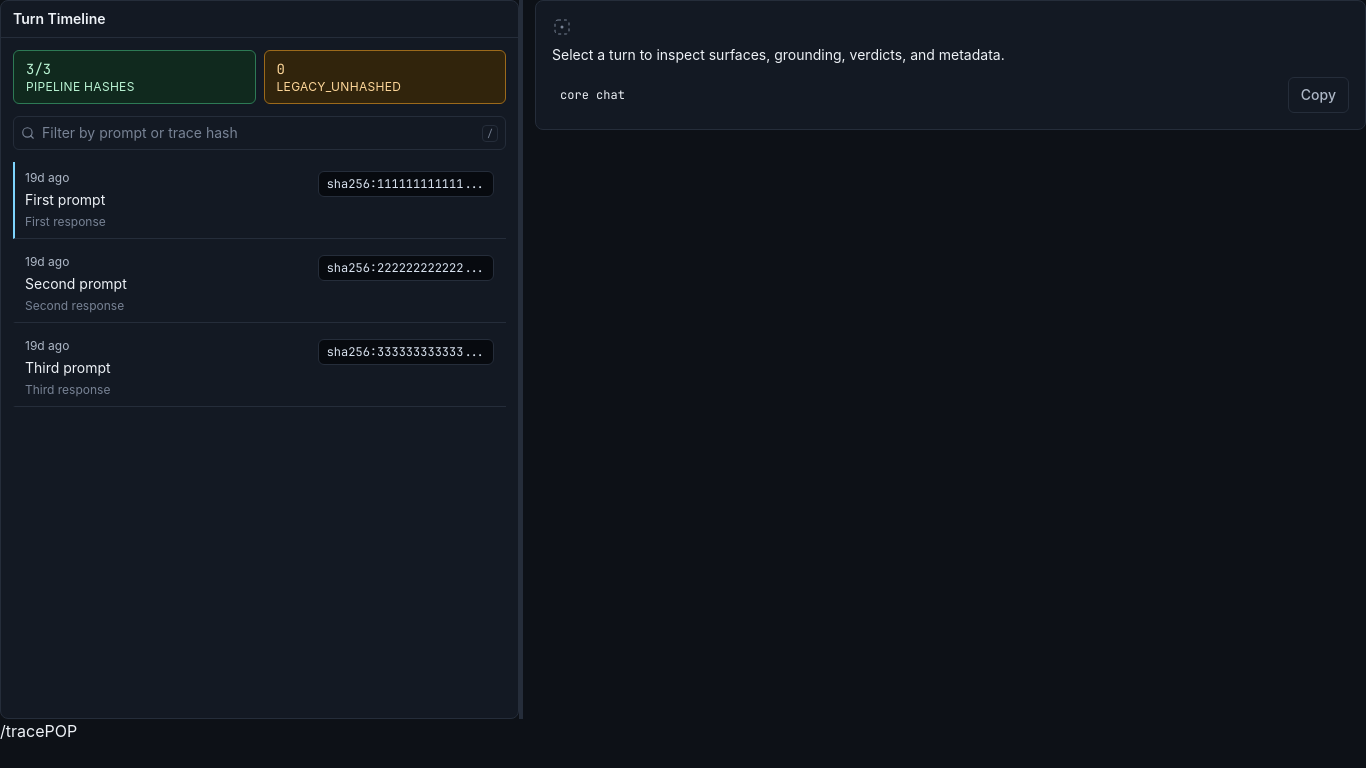
Test: TraceRoute › selecting a turn writes /trace/<turnId> with replace and shows evidence
Click the text "First prompt".
click(65, 200)  # box [25,190,105,210]
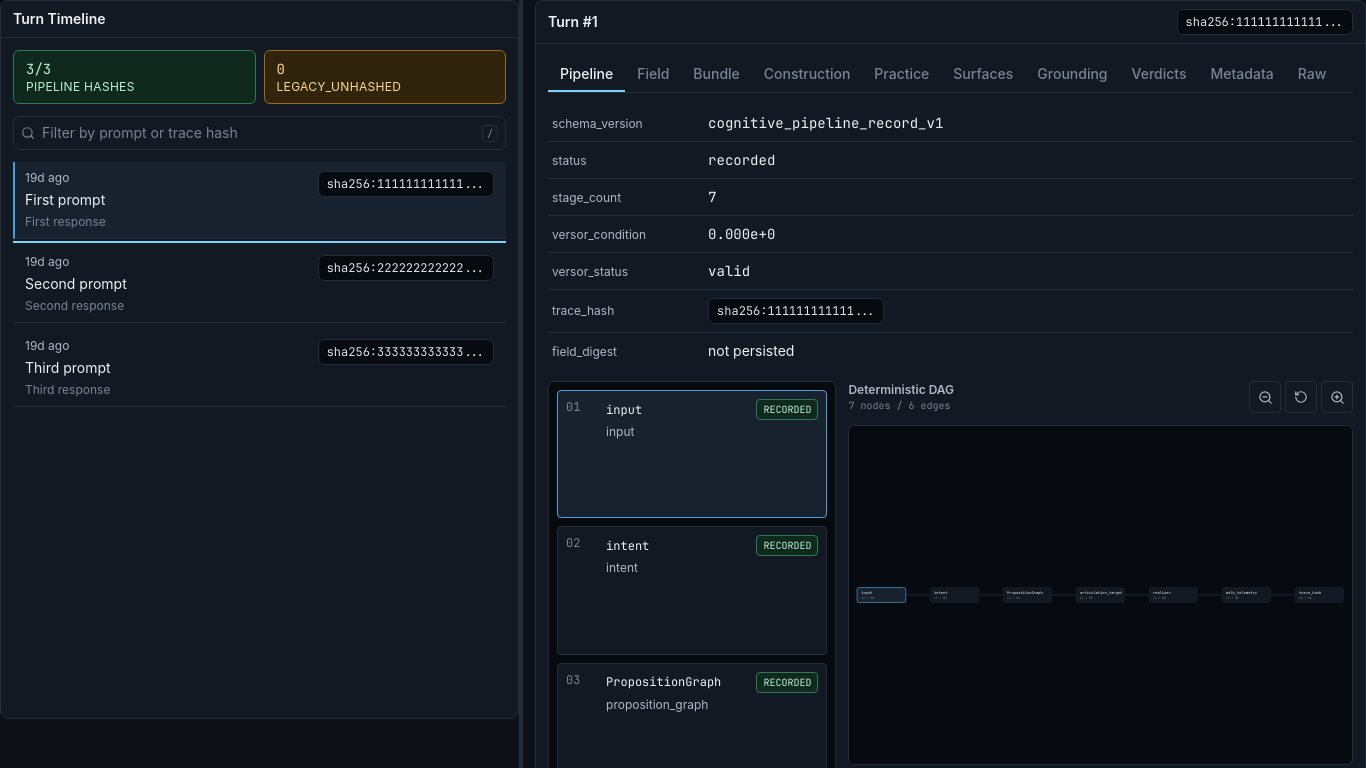
Click the tab "Surfaces".
click(983, 74)  # box [941,56,1025,92]
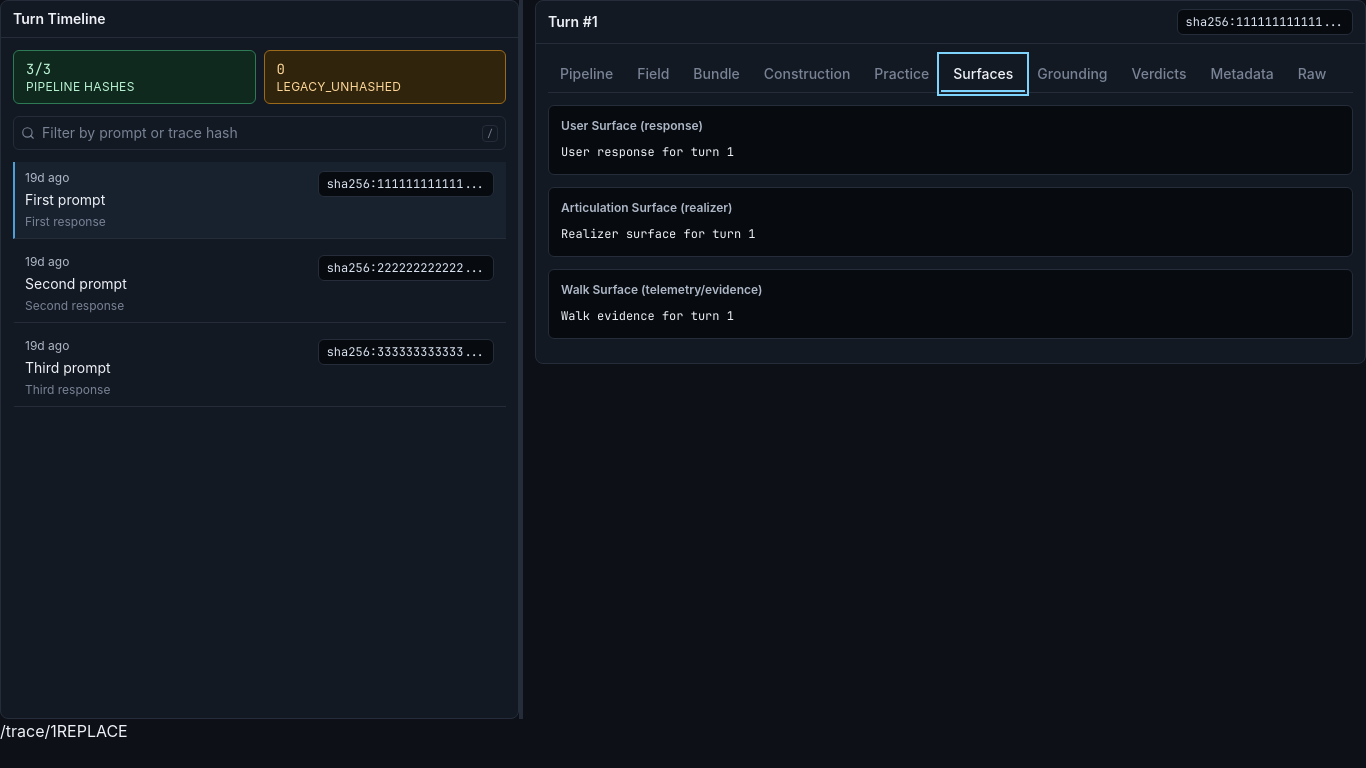
Result: the text "User response for turn 1" is shown at [561,144,734,160]
